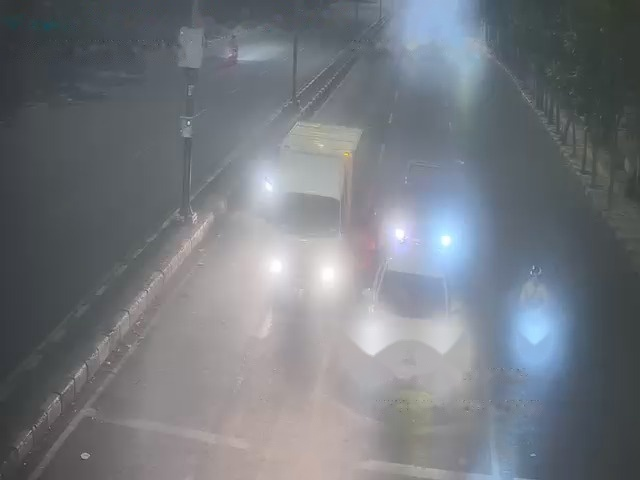Mobil: (389, 144, 468, 262)
Motor: (513, 253, 554, 359)
Truk: (260, 108, 360, 298)
